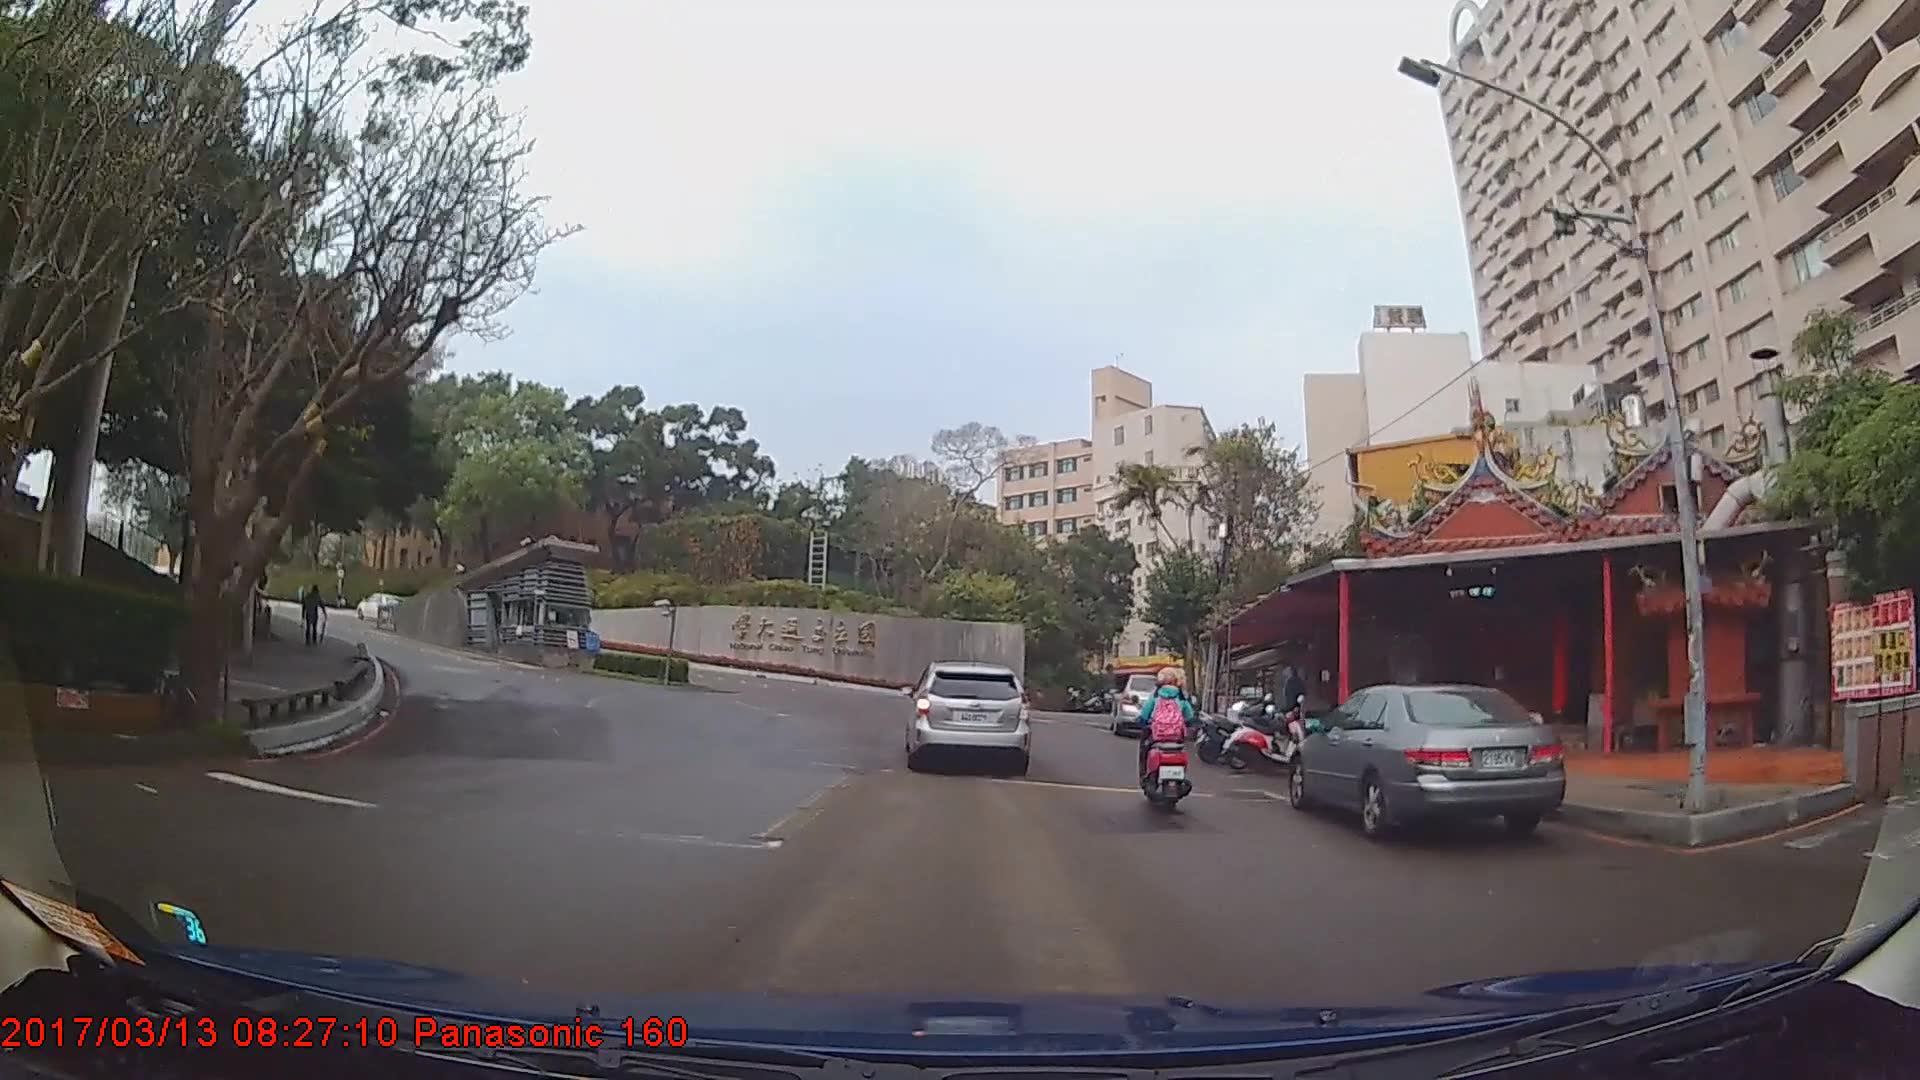pedestrian: (1282, 660, 1310, 733), (304, 586, 331, 646)
rider: (1134, 656, 1202, 812)
vehicle: (1288, 681, 1564, 836), (904, 654, 1029, 767), (1108, 670, 1182, 734), (354, 588, 407, 615)
